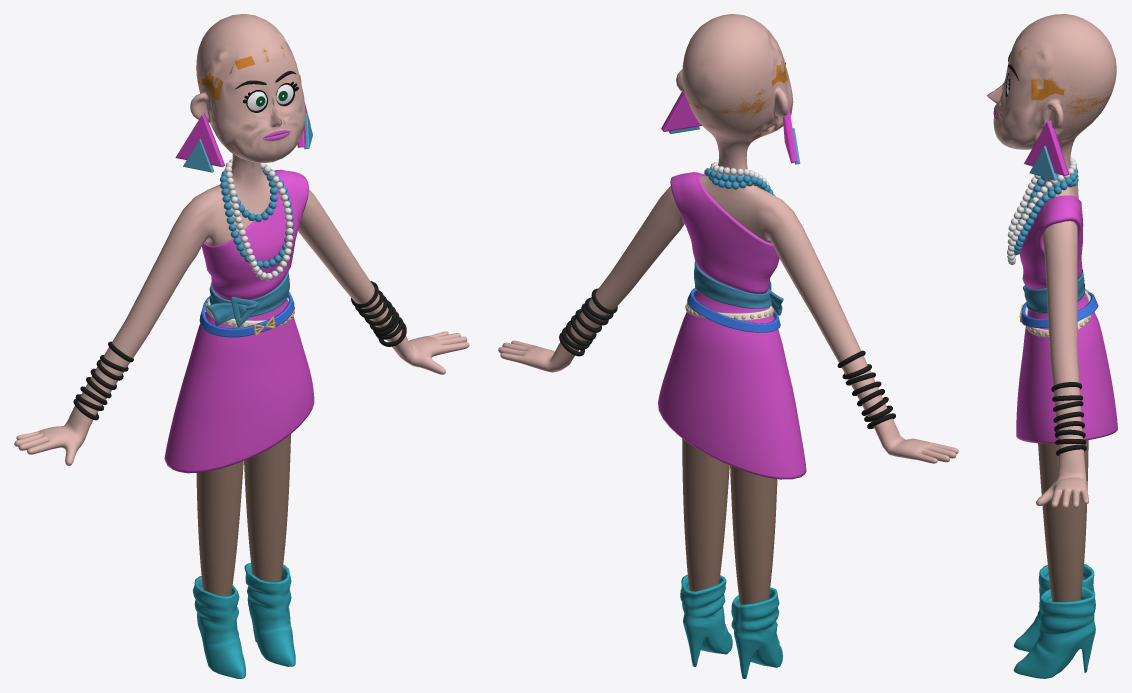
The model's file is r84-victoria-relaxed-audition.glb.
3 views of the same model, side by side, from view 1: azimuth 30°, elevation 25°; view 2: azimuth 150°, elevation 25°; view 3: azimuth 270°, elevation 25° (orthographic).
Parts seen in each view (by area): view 1: R84_AUDITION_GEO_GEO-victoria_body_upper, R84_AUDITION_GEO_GEO-victoria_dress, R84_AUDITION_GEO_GEO-victoria_body_legs, R84_AUDITION_GEO_GEO-victoria_boots, R84_AUDITION_GEO_GEO-victoria_necklaces, R84_AUDITION_GEO_GEO-victoria_bracelets, R84_AUDITION_GEO_GEO-victoria_earrings, R84_AUDITION_GEO_GEO-victoria_belt_main, R84_AUDITION_GEO_GEO-victoria_belt_blue; view 2: R84_AUDITION_GEO_GEO-victoria_body_upper, R84_AUDITION_GEO_GEO-victoria_dress, R84_AUDITION_GEO_GEO-victoria_body_legs, R84_AUDITION_GEO_GEO-victoria_boots, R84_AUDITION_GEO_GEO-victoria_bracelets, R84_AUDITION_GEO_GEO-victoria_belt_main, R84_AUDITION_GEO_GEO-victoria_earrings, R84_AUDITION_GEO_GEO-victoria_necklaces, R84_AUDITION_GEO_GEO-victoria_belt_blue, R84_AUDITION_GEO_GEO-victoria_hair.scalp; view 3: R84_AUDITION_GEO_GEO-victoria_body_upper, R84_AUDITION_GEO_GEO-victoria_dress, R84_AUDITION_GEO_GEO-victoria_boots, R84_AUDITION_GEO_GEO-victoria_body_legs, R84_AUDITION_GEO_GEO-victoria_necklaces, R84_AUDITION_GEO_GEO-victoria_earrings, R84_AUDITION_GEO_GEO-victoria_bracelets, R84_AUDITION_GEO_GEO-victoria_hair.scalp, R84_AUDITION_GEO_GEO-victoria_belt_main, R84_AUDITION_GEO_GEO-victoria_belt_blue, R84_AUDITION_GEO_GEO-victoria_belt_white.
Boxes of the visible parts, left/top/right/bottom form: R84_AUDITION_GEO_GEO-victoria_body_upper: left=14, top=14, right=469, bottom=465; R84_AUDITION_GEO_GEO-victoria_dress: left=164, top=169, right=314, bottom=473; R84_AUDITION_GEO_GEO-victoria_body_legs: left=196, top=434, right=290, bottom=596; R84_AUDITION_GEO_GEO-victoria_boots: left=192, top=562, right=295, bottom=678; R84_AUDITION_GEO_GEO-victoria_necklaces: left=220, top=159, right=293, bottom=280; R84_AUDITION_GEO_GEO-victoria_bracelets: left=73, top=281, right=406, bottom=420; R84_AUDITION_GEO_GEO-victoria_earrings: left=175, top=102, right=312, bottom=172; R84_AUDITION_GEO_GEO-victoria_belt_main: left=207, top=271, right=289, bottom=326; R84_AUDITION_GEO_GEO-victoria_belt_blue: left=199, top=292, right=294, bottom=337; R84_AUDITION_GEO_GEO-victoria_body_upper: left=498, top=14, right=958, bottom=463; R84_AUDITION_GEO_GEO-victoria_dress: left=658, top=172, right=806, bottom=479; R84_AUDITION_GEO_GEO-victoria_body_legs: left=682, top=438, right=777, bottom=604; R84_AUDITION_GEO_GEO-victoria_boots: left=680, top=574, right=782, bottom=678; R84_AUDITION_GEO_GEO-victoria_bracelets: left=559, top=288, right=895, bottom=428; R84_AUDITION_GEO_GEO-victoria_belt_main: left=694, top=261, right=783, bottom=315; R84_AUDITION_GEO_GEO-victoria_earrings: left=661, top=92, right=800, bottom=164; R84_AUDITION_GEO_GEO-victoria_necklaces: left=704, top=162, right=775, bottom=195; R84_AUDITION_GEO_GEO-victoria_belt_blue: left=687, top=288, right=780, bottom=332; R84_AUDITION_GEO_GEO-victoria_hair.scalp: left=685, top=30, right=787, bottom=135; R84_AUDITION_GEO_GEO-victoria_body_upper: left=987, top=14, right=1116, bottom=508; R84_AUDITION_GEO_GEO-victoria_dress: left=1016, top=195, right=1117, bottom=443; R84_AUDITION_GEO_GEO-victoria_boots: left=1013, top=563, right=1095, bottom=678; R84_AUDITION_GEO_GEO-victoria_body_legs: left=1038, top=440, right=1088, bottom=601; R84_AUDITION_GEO_GEO-victoria_necklaces: left=1007, top=157, right=1078, bottom=264; R84_AUDITION_GEO_GEO-victoria_earrings: left=1024, top=120, right=1069, bottom=180; R84_AUDITION_GEO_GEO-victoria_bracelets: left=1051, top=269, right=1086, bottom=455; R84_AUDITION_GEO_GEO-victoria_hair.scalp: left=1015, top=35, right=1111, bottom=138; R84_AUDITION_GEO_GEO-victoria_belt_main: left=1024, top=272, right=1084, bottom=313; R84_AUDITION_GEO_GEO-victoria_belt_blue: left=1019, top=291, right=1098, bottom=327; R84_AUDITION_GEO_GEO-victoria_belt_white: left=1024, top=290, right=1091, bottom=337.
Bounding box in the file's own units: 1.05 × 1.42 × 0.2631.
